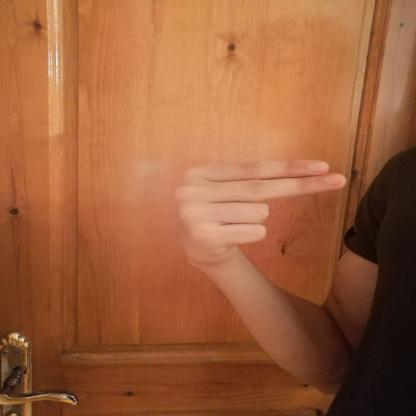AYN: (155, 150, 364, 274)
